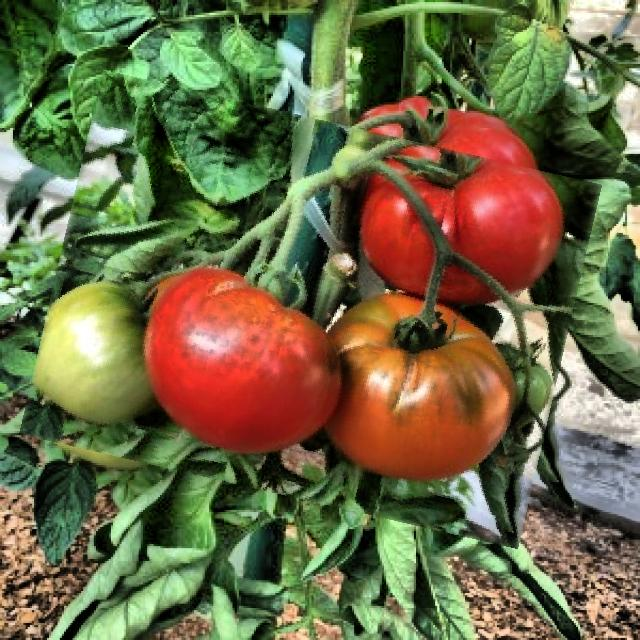tomato: (37, 97, 585, 523)
